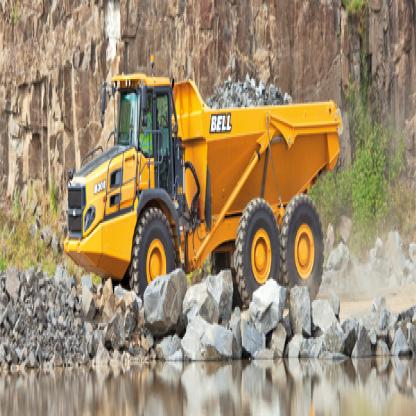dump_truck: (58, 53, 350, 316)
